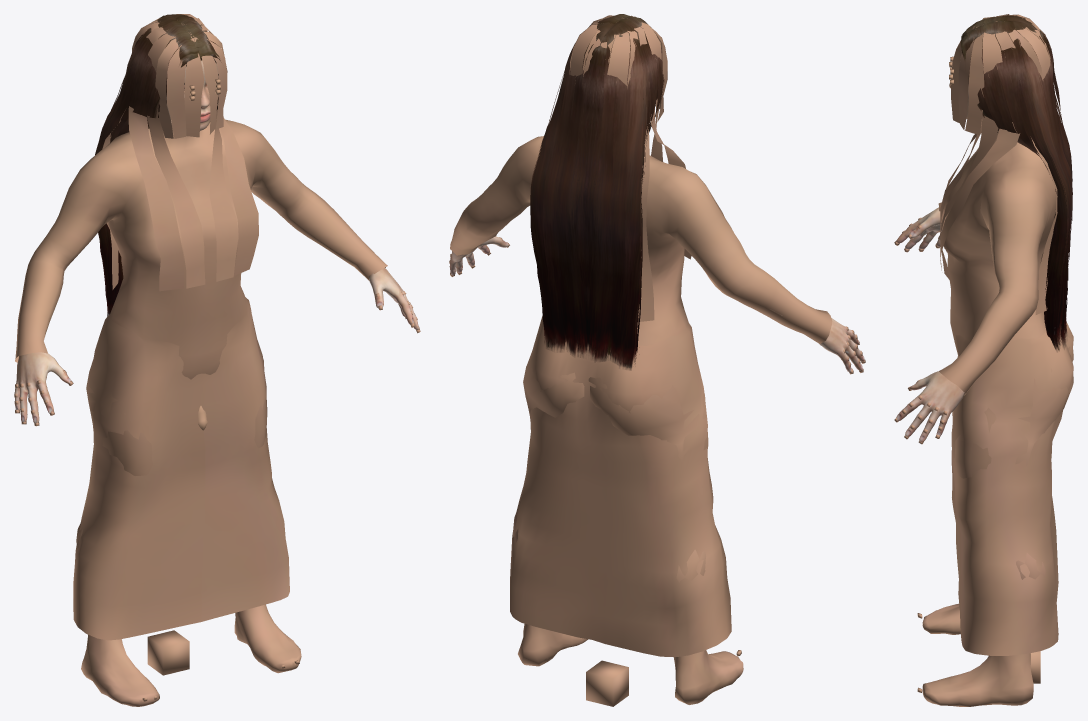
The model's file is Women.glb.
3 renders of one model, left to right at view 1: azimuth 30°, elevation 25°; view 2: azimuth 150°, elevation 25°; view 3: azimuth 270°, elevation 25°, orthographic. The views are drawn at different scales.
Visible parts, largest first — view 1: Human, Human.long01; view 2: Human, Human.long01, Human.long01_export_copy; view 3: Human, Human.long01.
Boxes of the visible parts, x1,y1,x2,y2 form: Human: [14, 14, 420, 706]; Human.long01: [95, 14, 220, 316]; Human: [449, 15, 865, 706]; Human.long01: [530, 14, 664, 369]; Human.long01_export_copy: [544, 333, 635, 368]; Human: [894, 14, 1073, 706]; Human.long01: [960, 15, 1072, 350].
Bounding box in the file's own units: 0.8061 × 1.27 × 0.3143.
Materials: 6 (6 with a texture image).
